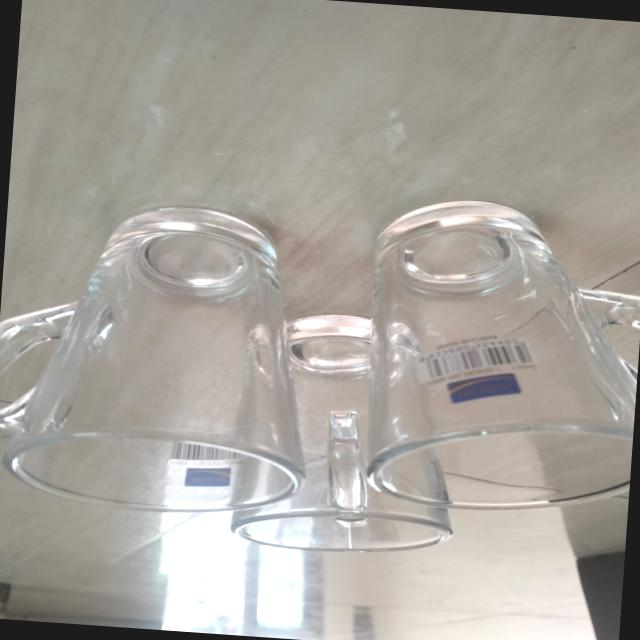glass-VX4N: (0, 181, 331, 523), (362, 197, 640, 523), (226, 310, 472, 560)
